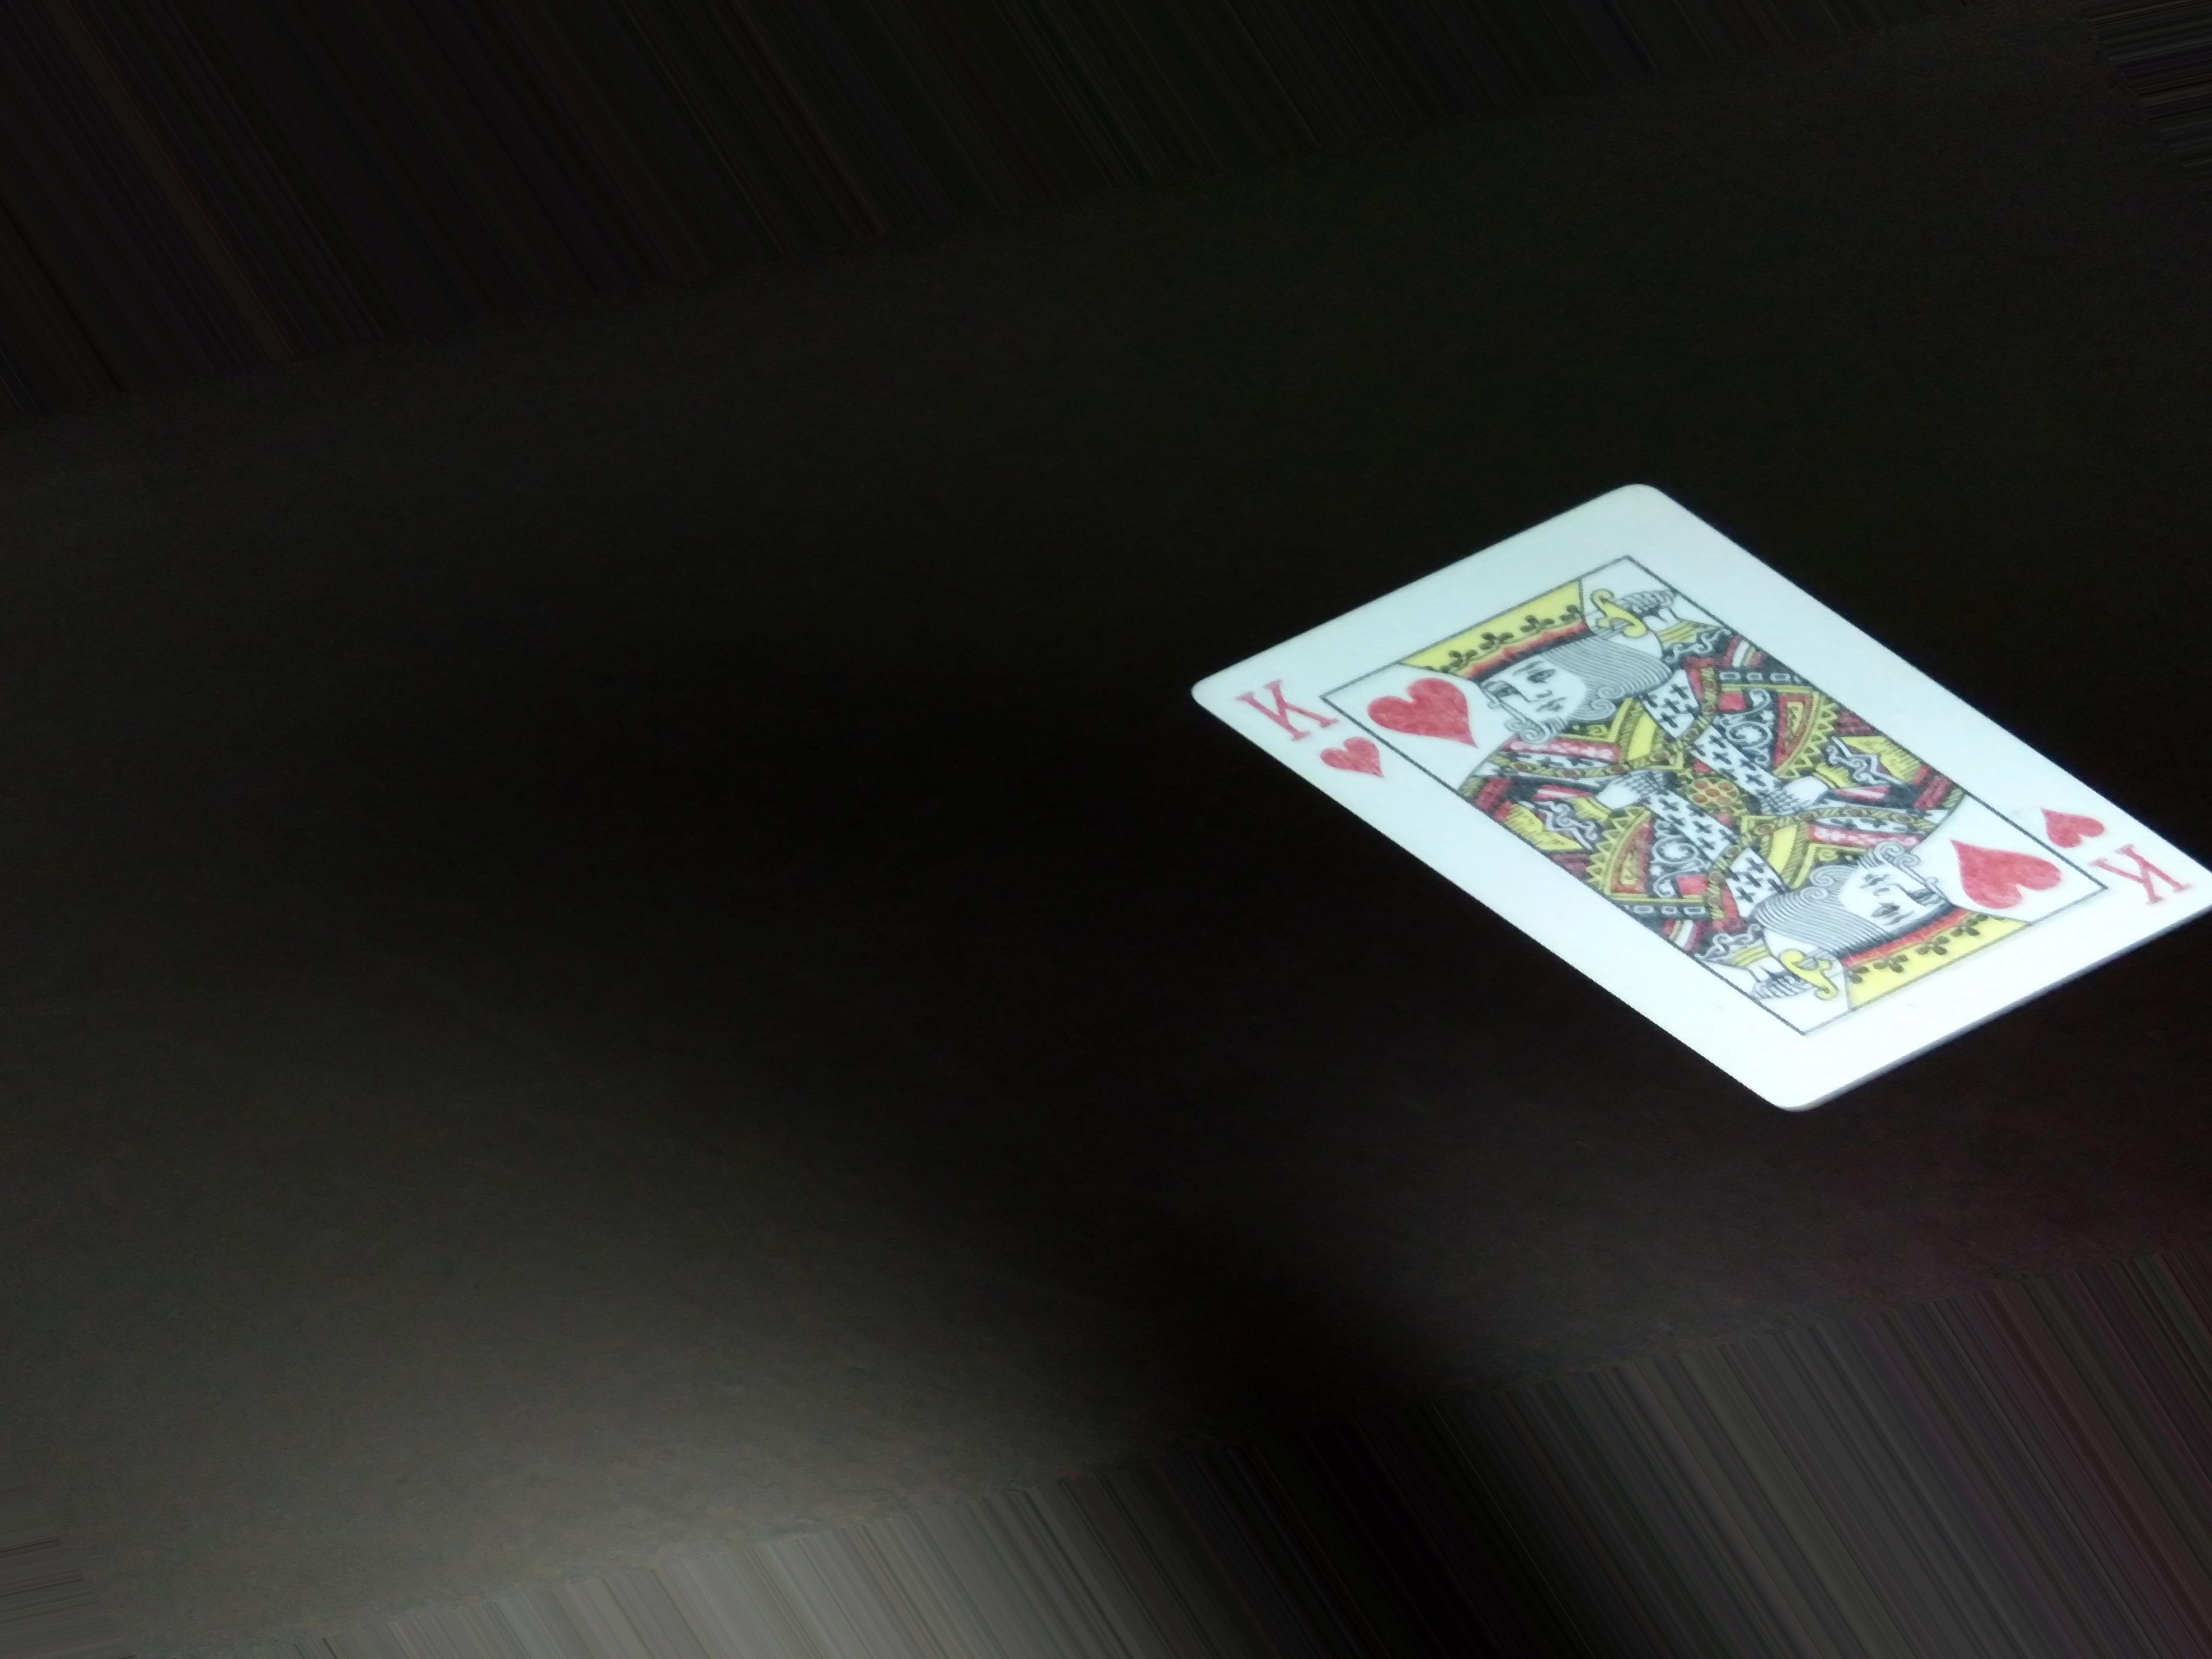KH: (1235, 676, 1395, 789)
